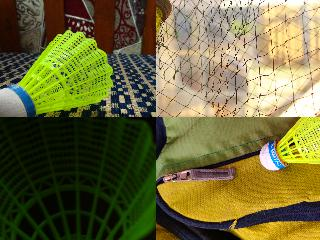shuttlecock: (0, 117, 155, 239), (0, 29, 113, 116), (259, 117, 319, 170), (156, 0, 172, 63)
